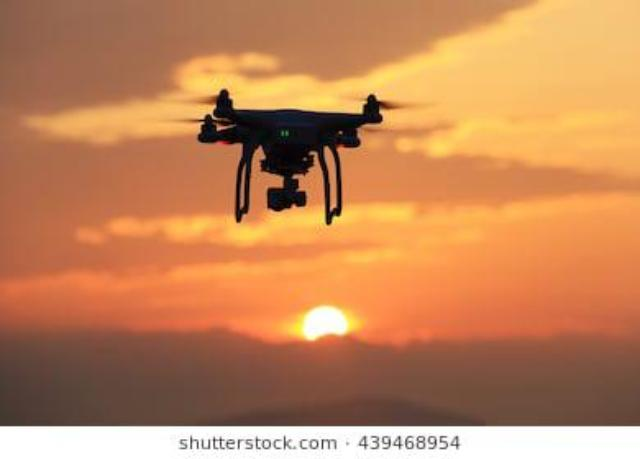drone: (154, 65, 440, 237)
